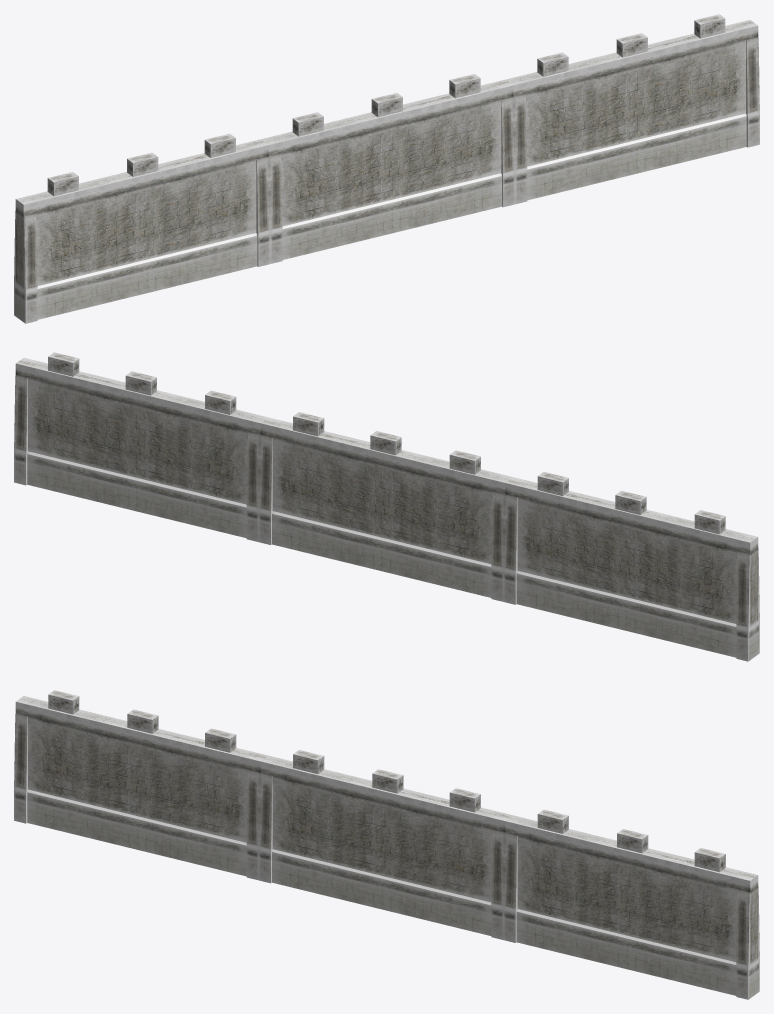
The model's file is snow-bigdam-04.glb.
The picture shows the model from 3 angles, top to bottom: view 1: azimuth 30°, elevation 25°; view 2: azimuth 150°, elevation 25°; view 3: azimuth 330°, elevation 25°; orthographic projection.
Visible parts, largest first — view 1: snow-bigdam-01; view 2: snow-bigdam-01; view 3: snow-bigdam-01.
Boxes of the visible parts, <box> form: snow-bigdam-01: <box>14,14,759,323</box>; snow-bigdam-01: <box>14,352,759,661</box>; snow-bigdam-01: <box>14,690,759,999</box>.
Size of the model in its own units: 30.02 by 5.14 by 0.8224.
1 material, 1 textured.
